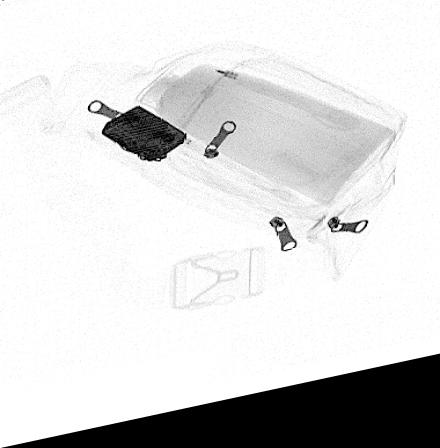Lighter: (102, 112, 188, 167)
